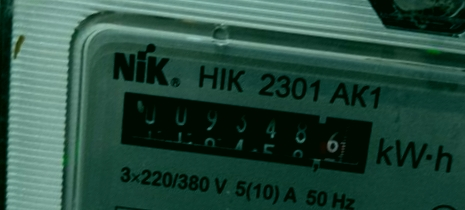0: (142, 98, 158, 125), (172, 102, 190, 126)
3: (232, 108, 249, 136)
4: (262, 112, 279, 140)
6: (322, 126, 343, 155)
8: (291, 116, 310, 146)
9: (201, 105, 219, 133)
screen: (107, 82, 383, 184)
